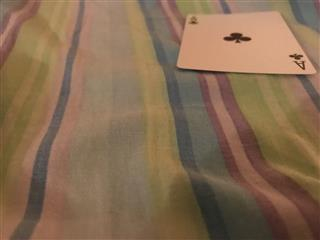AceOfClubs: (175, 10, 316, 74)
